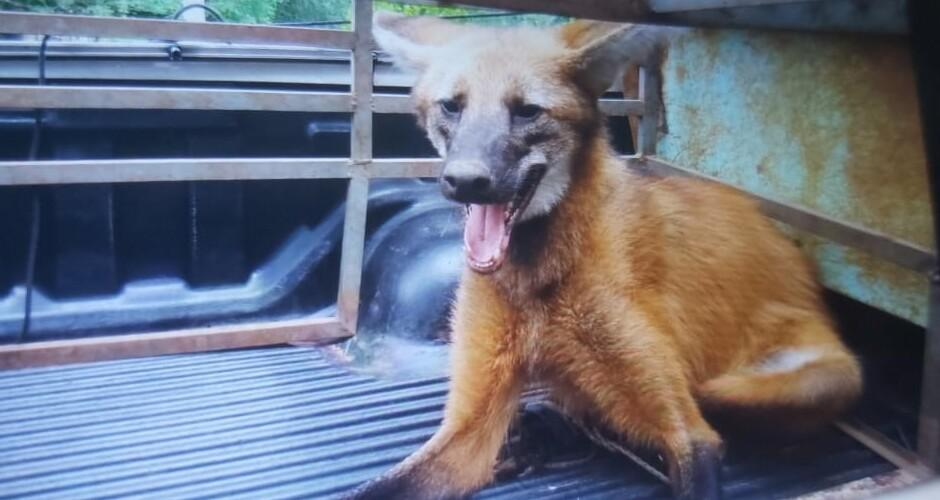LoboGuara: (304, 4, 883, 477)
